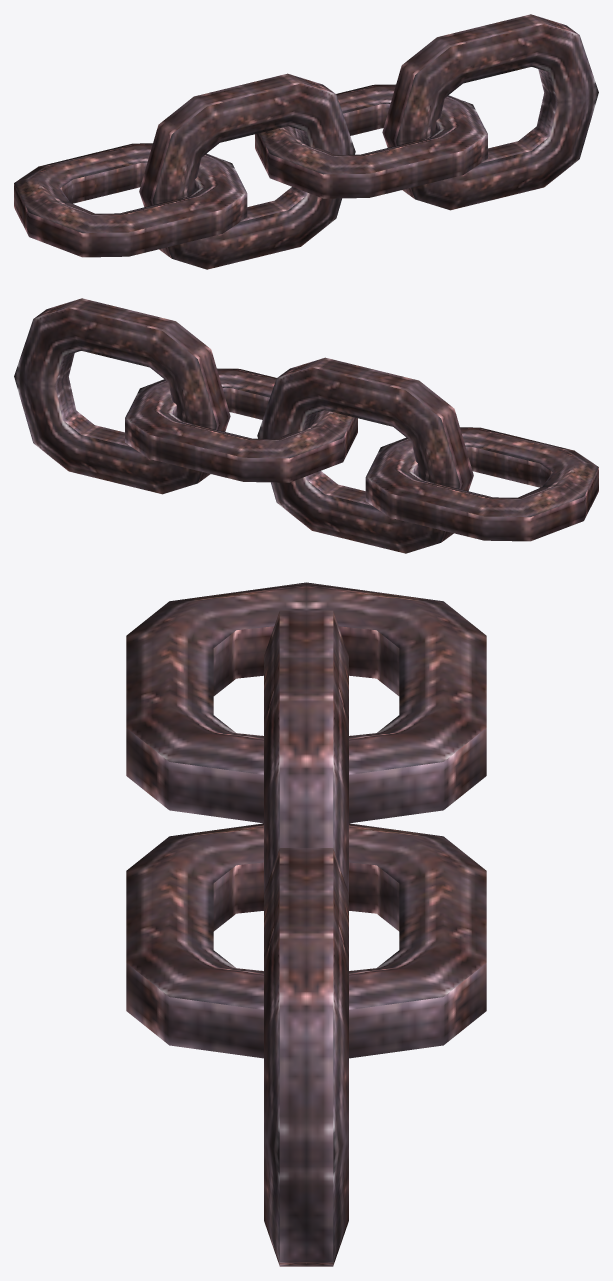
Rendered from SM_zhucheng_tielian01.FBX.
3 renders of one model, top to bottom at view 1: azimuth 30°, elevation 25°; view 2: azimuth 150°, elevation 25°; view 3: azimuth 270°, elevation 25°, orthographic. The views are drawn at different scales.
Parts seen in each view (by area): view 1: SM_zhucheng_tielian01; view 2: SM_zhucheng_tielian01; view 3: SM_zhucheng_tielian01.
Part boxes in pixels (box(x1,y1,x2,y2)): SM_zhucheng_tielian01: box(14, 14, 598, 269); SM_zhucheng_tielian01: box(14, 298, 598, 553); SM_zhucheng_tielian01: box(126, 582, 486, 1266).
Size of the model in its own units: 212 by 58.68 by 58.68.
